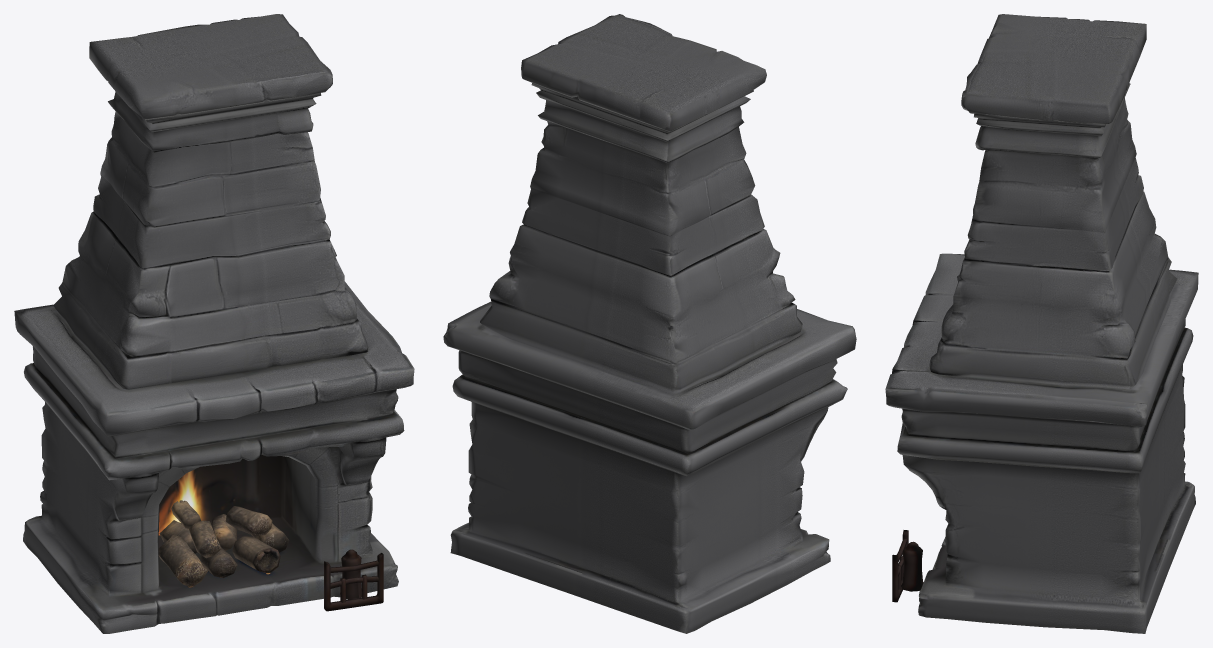
Rendered from camino.glb.
3 renders of one model, left to right at view 1: azimuth 30°, elevation 25°; view 2: azimuth 150°, elevation 25°; view 3: azimuth 270°, elevation 25°, orthographic. The views are drawn at different scales.
Parts seen in each view (by area): view 1: camino; view 2: camino; view 3: camino.
Boxes of the visible parts, x1=… form: camino: x1=14, y1=14, x2=414, y2=633; camino: x1=443, y1=14, x2=856, y2=633; camino: x1=885, y1=14, x2=1198, y2=633.
Bounding box in the file's own units: 0.6587 × 0.9995 × 0.561.
1 material, 1 textured.
